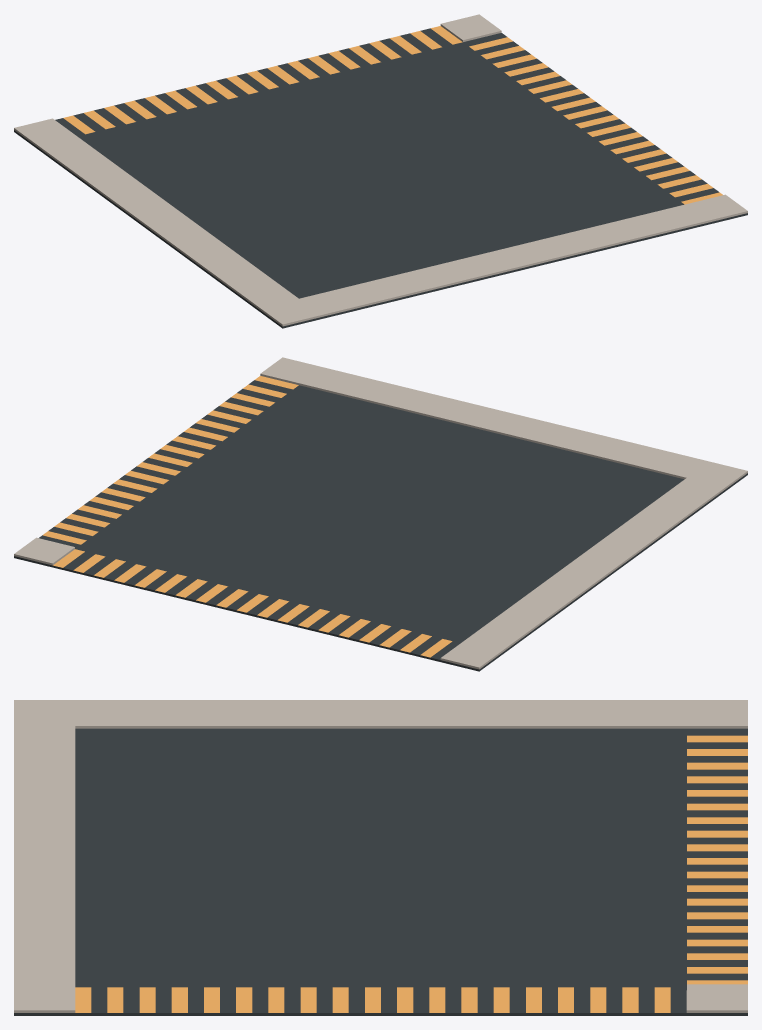
File: SM_road_035.glb
The picture shows the model from 3 angles, top to bottom: view 1: azimuth 30°, elevation 25°; view 2: azimuth 150°, elevation 25°; view 3: azimuth 270°, elevation 25°; orthographic projection. The views are drawn at different scales.
Parts seen in each view (by area): view 1: SM_road_035; view 2: SM_road_035; view 3: SM_road_035.
Boxes of the visible parts, left/top/right/bottom form: SM_road_035: left=14, top=14, right=747, bottom=328; SM_road_035: left=14, top=357, right=747, bottom=671; SM_road_035: left=14, top=700, right=747, bottom=1015.
Bounding box in the file's own units: 12 × 0.1 × 12.
Materials: 1 (1 with a texture image).
